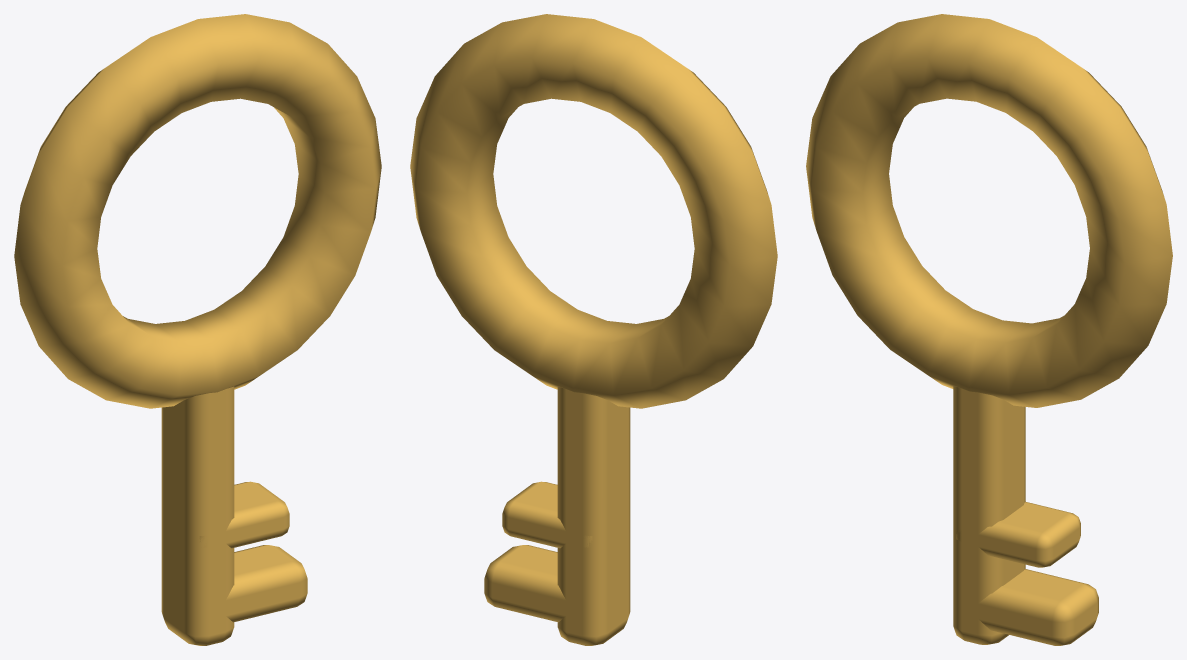
The model's file is treasure-home.glb.
3 views of the same model, side by side, from view 1: azimuth 30°, elevation 25°; view 2: azimuth 150°, elevation 25°; view 3: azimuth 330°, elevation 25° (orthographic).
Visible parts, largest first — view 1: collectible-home; view 2: collectible-home; view 3: collectible-home.
Part boxes in pixels (<box>): collectible-home: <box>14,14,381,645</box>; collectible-home: <box>410,14,777,645</box>; collectible-home: <box>806,14,1172,645</box>.
Bounding box in the file's own units: 0.38 × 0.61 × 0.0761.
